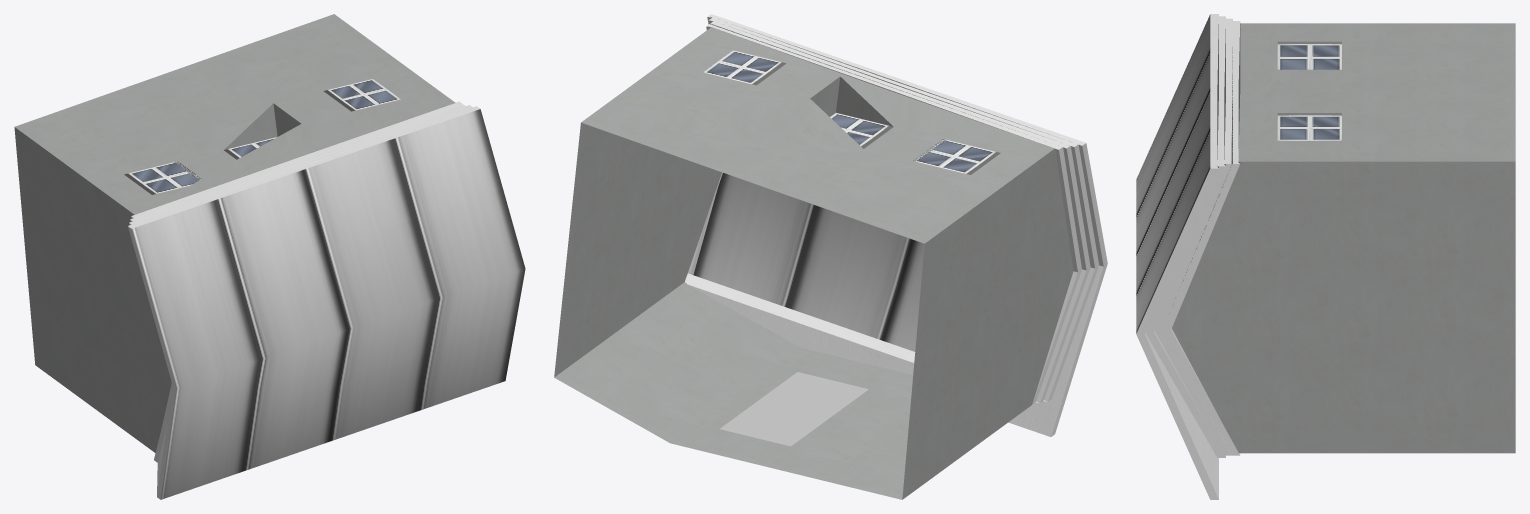
Rendered from aia_14a-origo.obj.
The picture shows the model from 3 angles, left to right: view 1: azimuth 30°, elevation 25°; view 2: azimuth 150°, elevation 25°; view 3: azimuth 270°, elevation 25°; orthographic projection. The views are drawn at different scales.
Visible parts, largest first — view 1: Aia_14a; view 2: Aia_14a; view 3: Aia_14a.
Part boxes in pixels (x1,y1,x2,y2): Aia_14a: (14, 14, 525, 499); Aia_14a: (554, 14, 1107, 499); Aia_14a: (1136, 14, 1515, 499).
Bounding box in the file's own units: 5.62 × 4.5 × 4.33.
